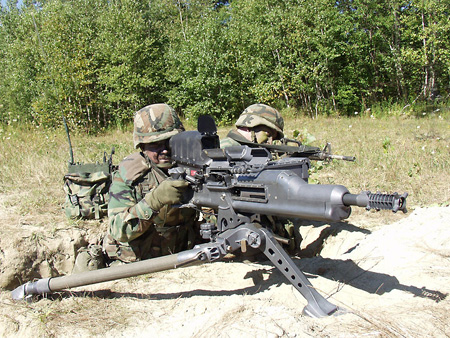rifle: (205, 147, 410, 218)
rifle in hand: (154, 143, 423, 224)
